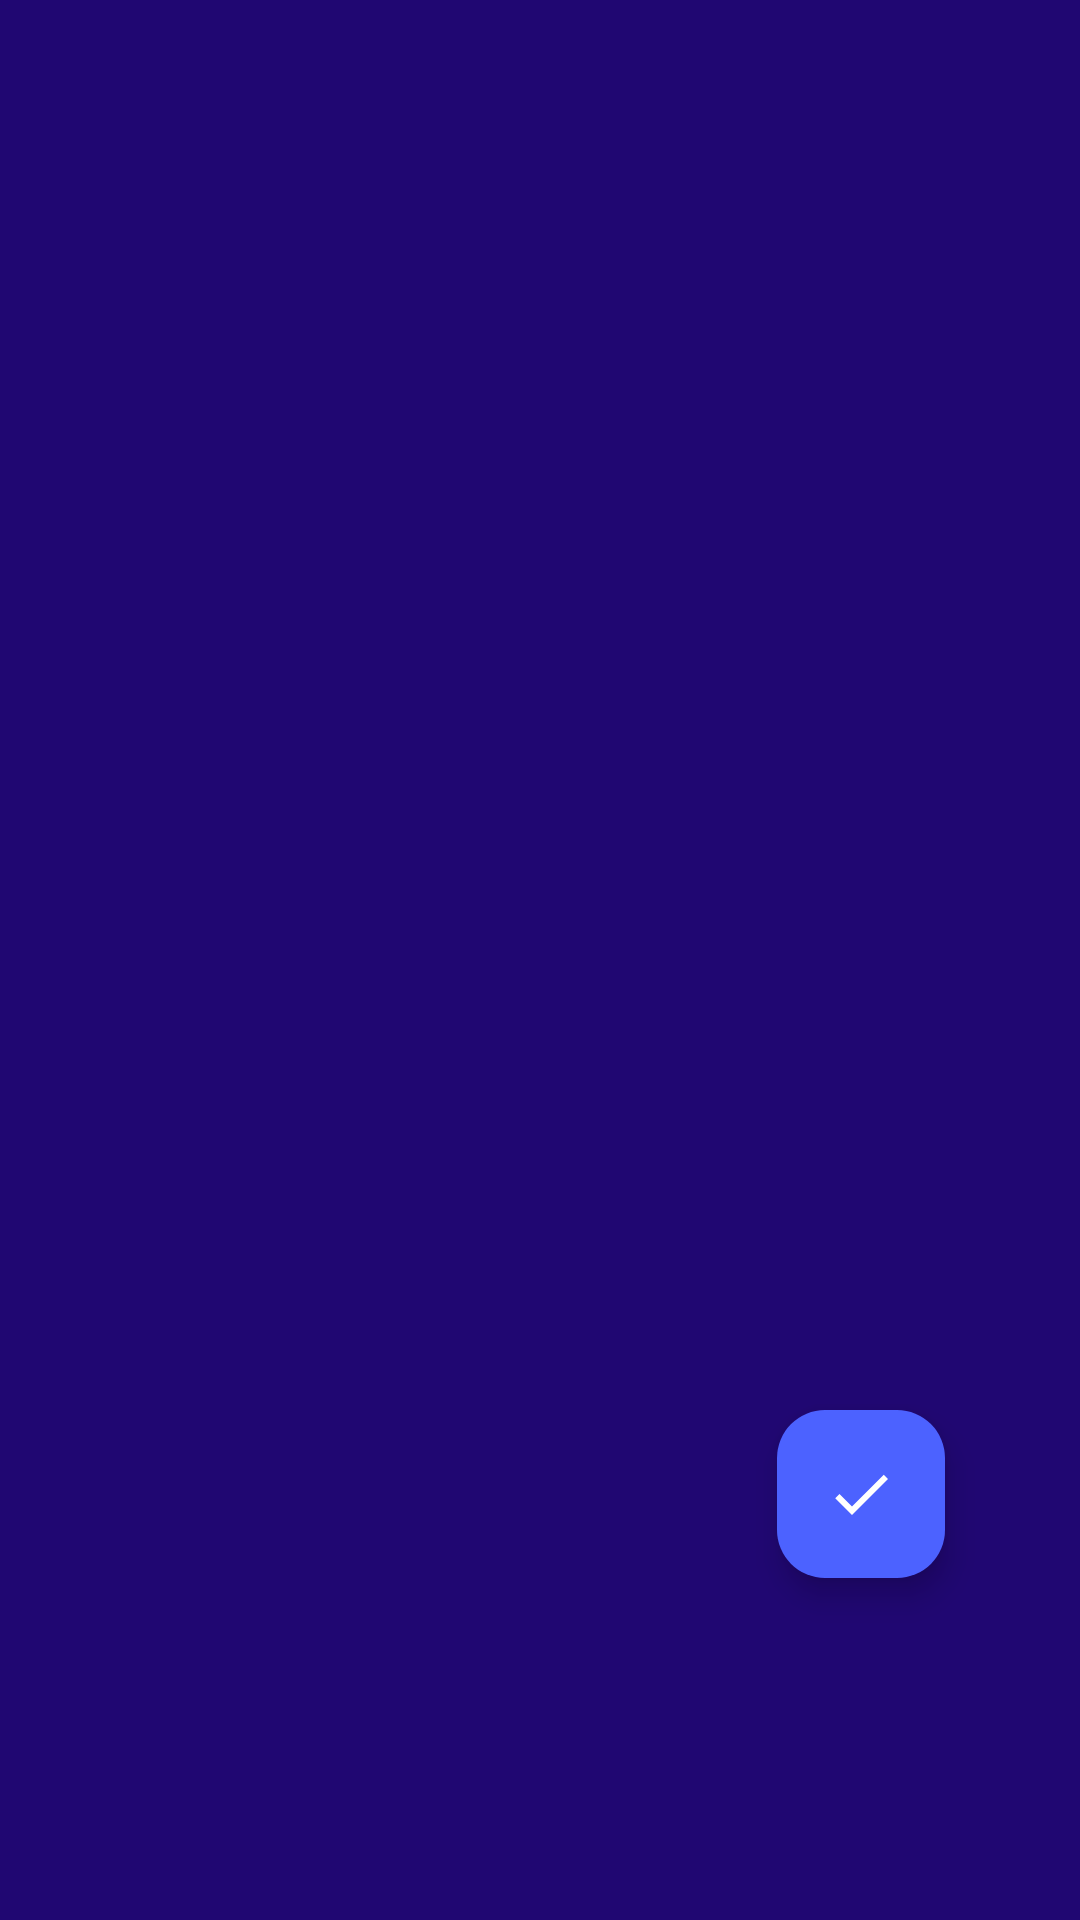

Where icons sit on this 1080x1920 app screen, as Rect(x1, y1, x2, y2):
check: Rect(777, 1410, 945, 1578)
